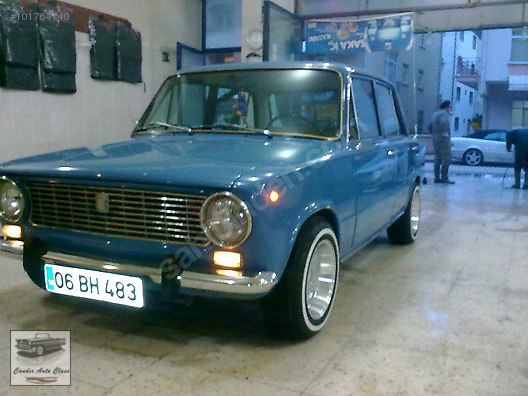murat: (1, 61, 425, 333)
